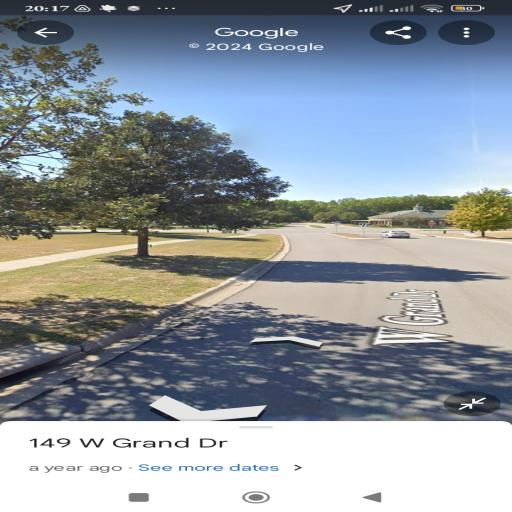Roads: (0, 215, 497, 396)
Trees: (0, 84, 282, 263)
